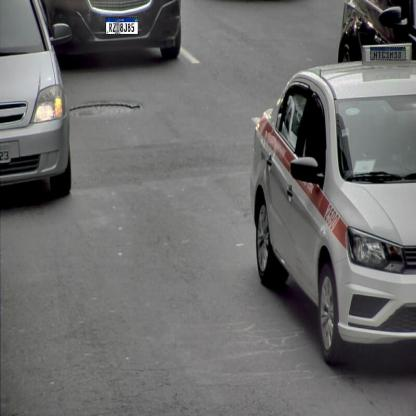PlacaM: (106, 17, 138, 35), (370, 47, 406, 60)
